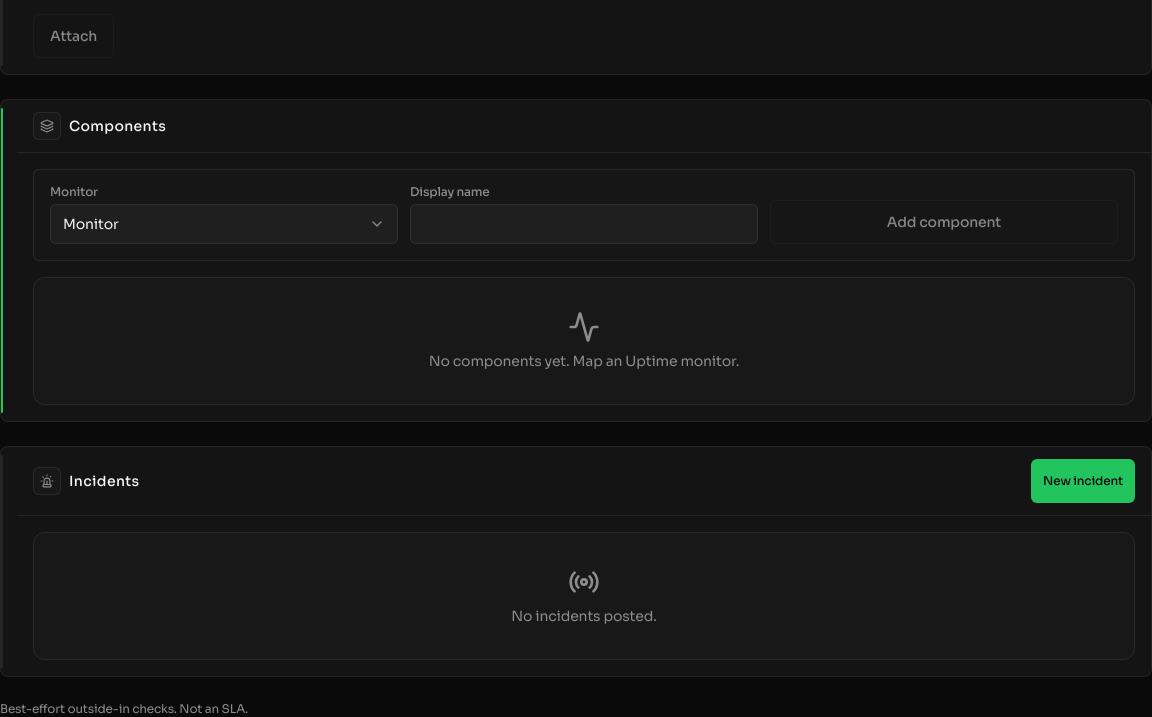
Test case: StatusPage admin › hides the new-incident form until New incident is clicked
This screenshot has width=1152, height=717.
(page scrolled)
What coordinates should you click on to do the following:
click the button with test id "status-incident-add"
I would click on:
 (1083, 481)
Its box is [1031,459,1135,503].
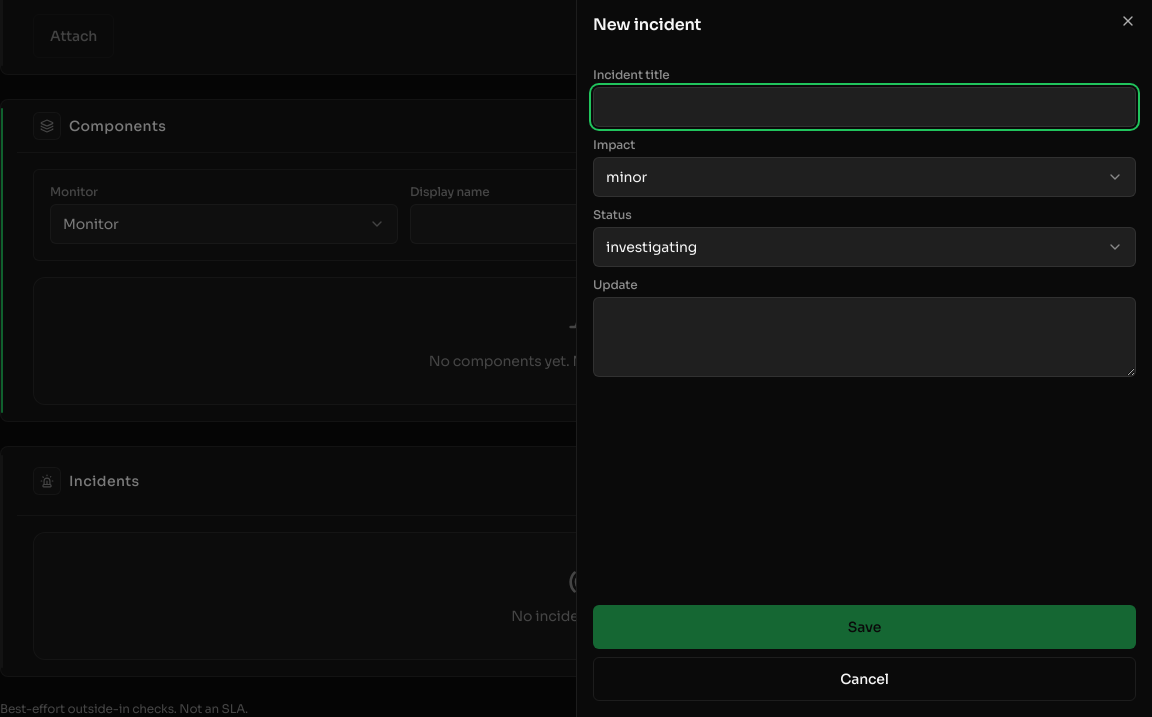
Now the element with test id "status-incident-create" is shown, box [577,69,1151,377]
Now the field with test id "status-incident-title" is shown, box [593,87,1136,127]
What coordinates should you click on to do the following:
click the button with test id "status-incident-create-cancel"
I would click on:
 (864, 679)
Its box is [593,657,1136,701].
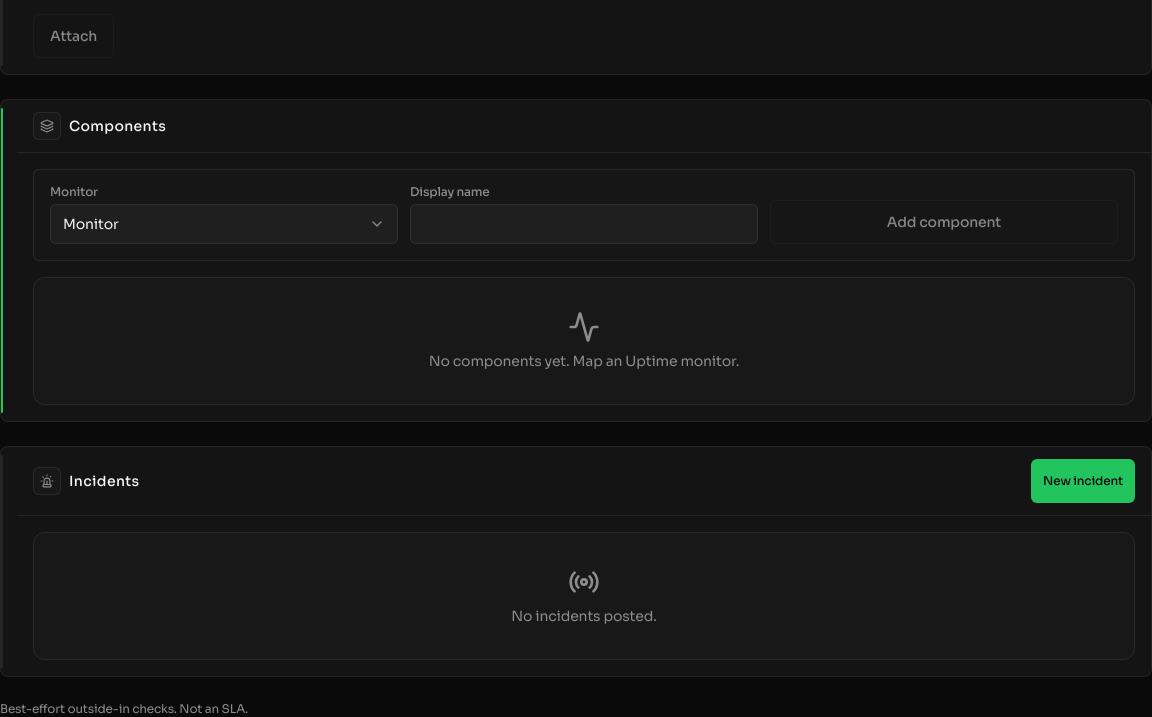
Now the element with test id "status-incident-create" is gone
